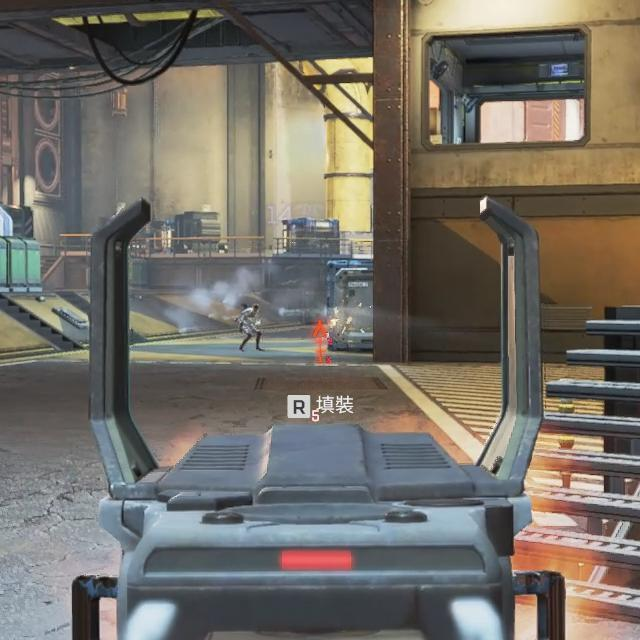avatar: (237, 302, 265, 353)
